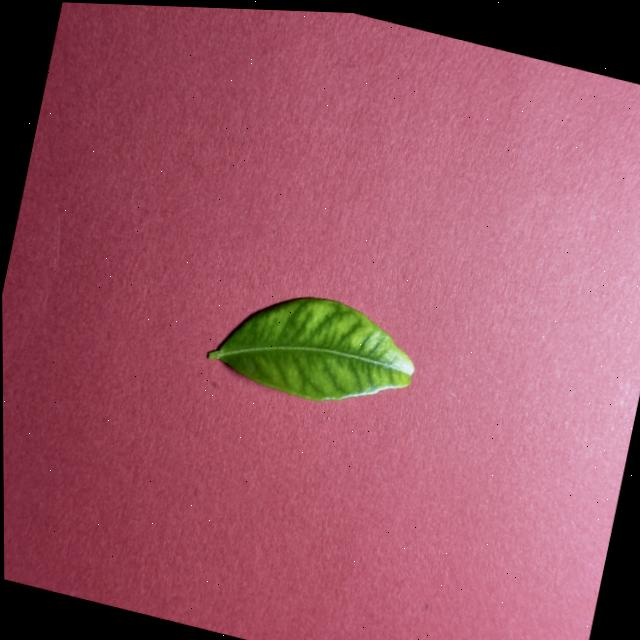greening: (207, 297, 412, 400)
